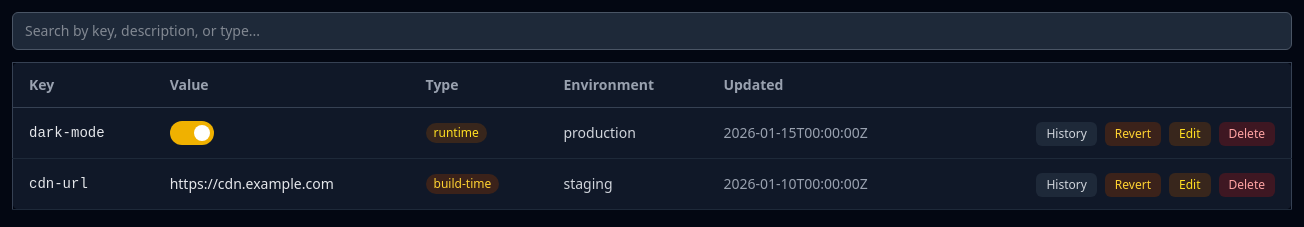
Test: FlagTable › search/filter › filters flags by description
In the field with placeholder "Search by key, description, or type...": [652, 31] box 12,12 -> 1292,50, type "CDN base"
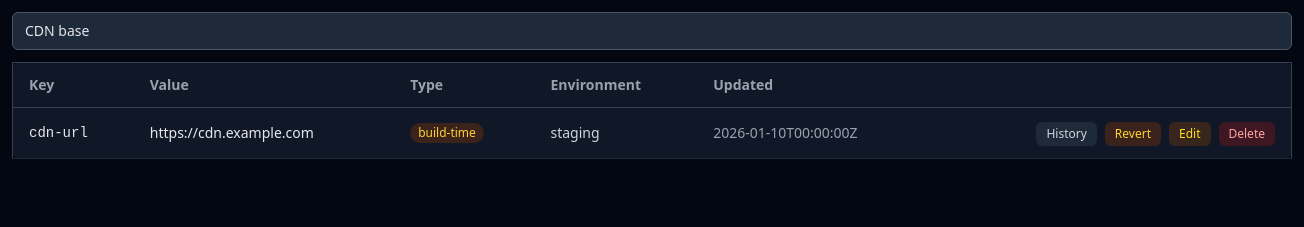
Check: the text "dark-mode" is gone
